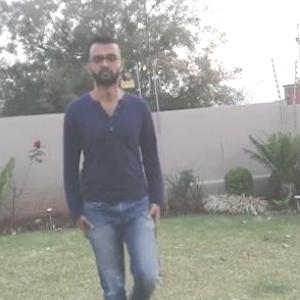follow: (68, 43, 164, 299)
